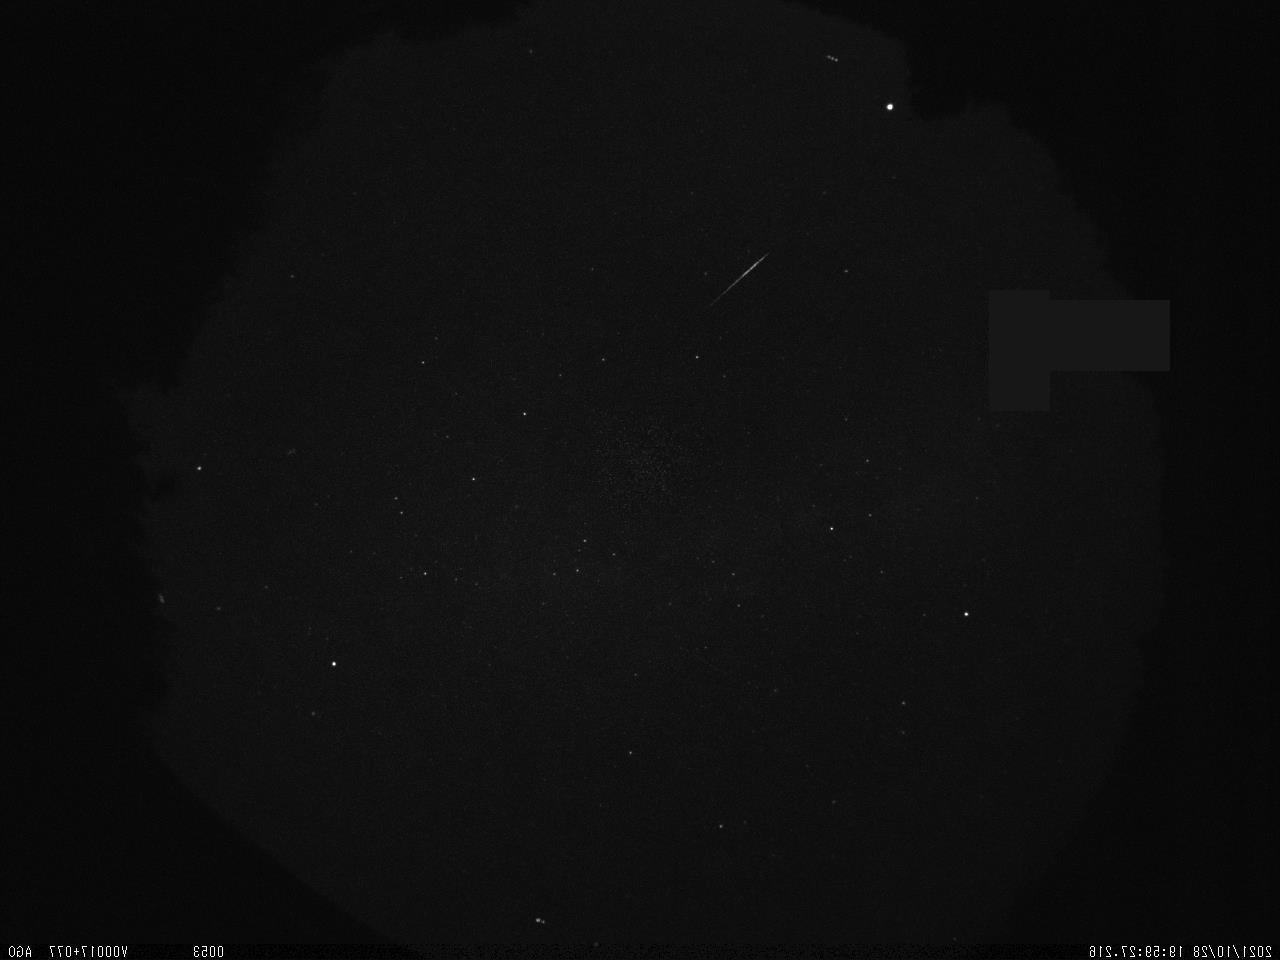meteor: (697, 252, 769, 317)
